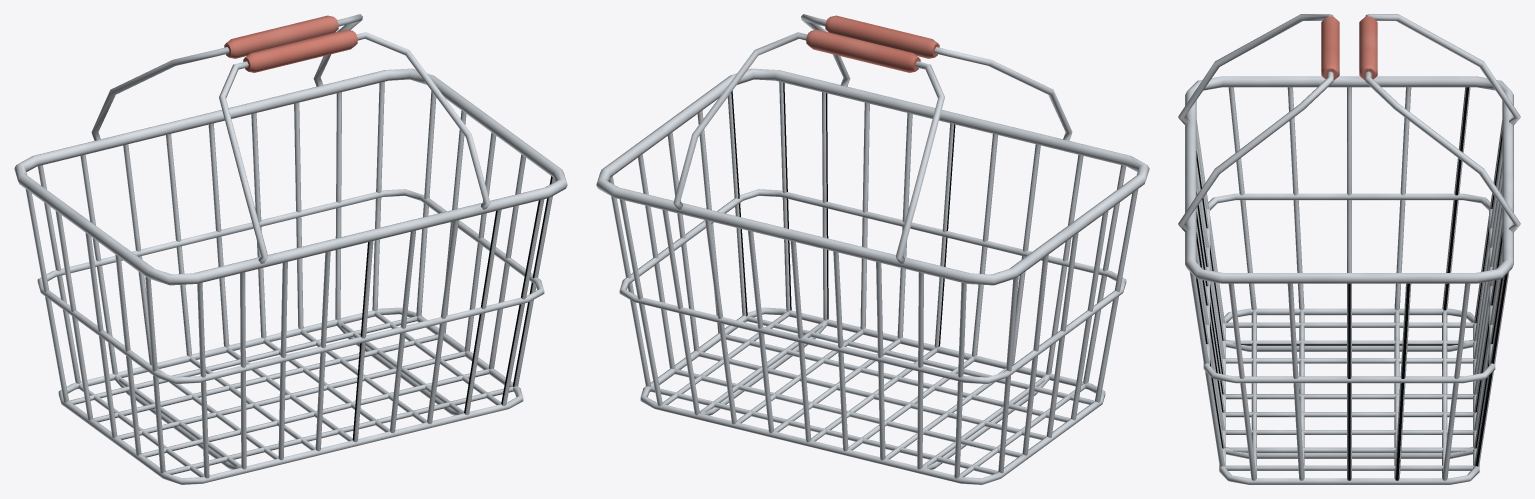
The model's file is Shop_Basket.fbx.
The picture shows the model from 3 angles, left to right: view 1: azimuth 30°, elevation 25°; view 2: azimuth 150°, elevation 25°; view 3: azimuth 270°, elevation 25°; orthographic projection.
Visible parts, largest first — view 1: Shop_Basket; view 2: Shop_Basket; view 3: Shop_Basket.
Boxes of the visible parts, left/top/right/bottom form: Shop_Basket: left=14, top=14, right=567, bottom=484; Shop_Basket: left=596, top=14, right=1149, bottom=484; Shop_Basket: left=1178, top=14, right=1520, bottom=484.
Bounding box in the file's own units: 0.451 × 0.3803 × 0.3245.
